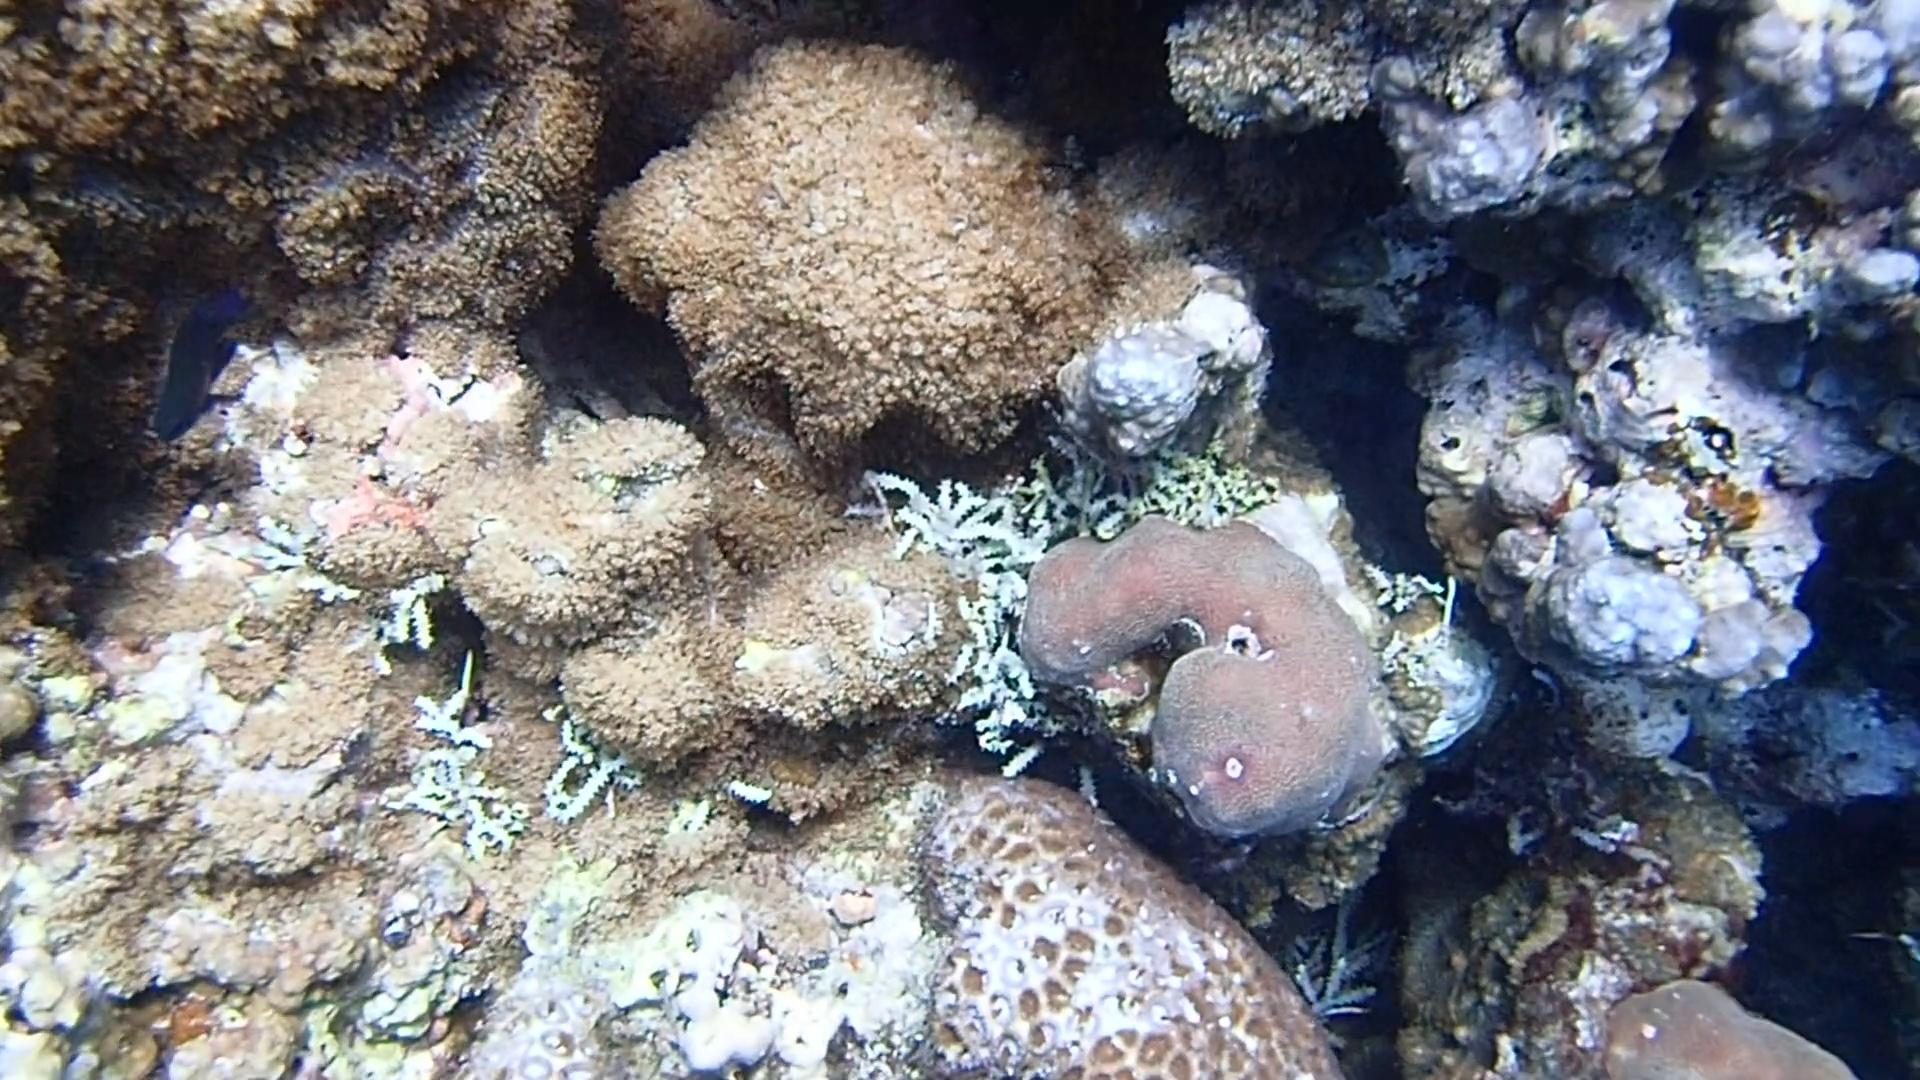Dark Fish: (146, 276, 258, 444)
